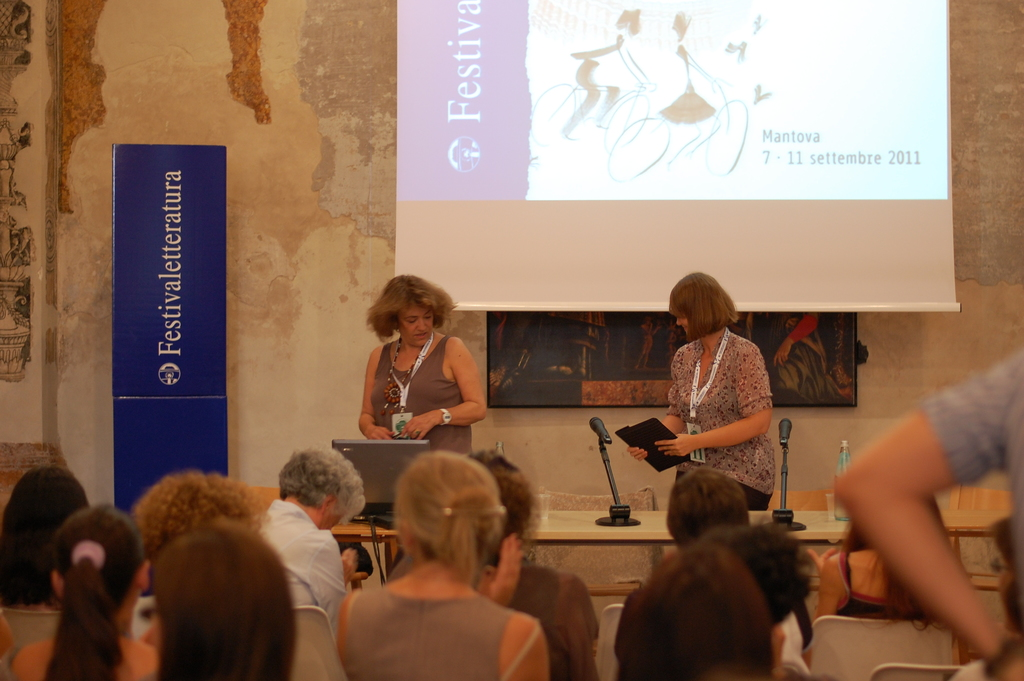Human_hand: (474, 532, 524, 605), (806, 546, 842, 596), (401, 411, 442, 441), (340, 549, 368, 586), (653, 434, 694, 459), (365, 425, 396, 443), (625, 447, 648, 461)
